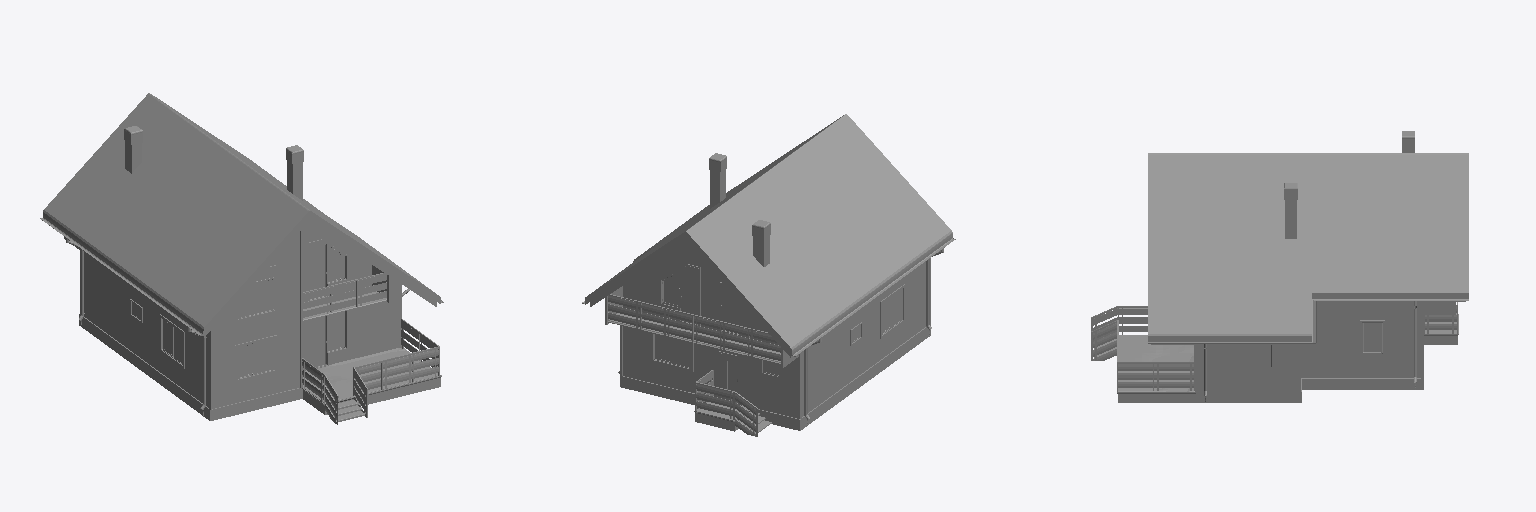
File: Body.obj
3 views of the same model, side by side, from view 1: azimuth 30°, elevation 25°; view 2: azimuth 150°, elevation 25°; view 3: azimuth 270°, elevation 25° (orthographic).
Visible parts, largest first — view 1: Body.002_Plane.004, Plane, Plane.001, Plane.002, Plane.003_Plane.005, Body.001_Plane.003, Door1_Mesh, Door2_Mesh.001; view 2: Body.002_Plane.004, Plane, Plane.001, Plane.002, Door4_Mesh.004, Door3_Mesh.002, Plane.003_Plane.005, Door5_Mesh.003; view 3: Body.002_Plane.004, Plane, Plane.001, Plane.002, Body.001_Plane.003.
Part boxes in pixels (x1,y1,x2,y2): Body.002_Plane.004: (43, 93, 440, 420); Plane: (40, 214, 443, 409); Plane.001: (80, 229, 441, 424); Plane.002: (79, 130, 440, 420); Plane.003_Plane.005: (132, 241, 345, 378); Body.001_Plane.003: (81, 320, 364, 420); Door1_Mesh: (309, 316, 326, 366); Door2_Mesh.001: (309, 241, 326, 299); Body.002_Plane.004: (585, 114, 952, 352); Plane: (582, 235, 955, 419); Plane.001: (608, 258, 930, 436); Plane.002: (609, 158, 930, 431); Door4_Mesh.004: (681, 266, 698, 323); Door3_Mesh.002: (721, 353, 738, 402); Plane.003_Plane.005: (654, 265, 902, 403); Door5_Mesh.003: (721, 284, 738, 324); Body.002_Plane.004: (1091, 131, 1468, 391); Plane: (1148, 297, 1468, 395); Plane.001: (1091, 302, 1458, 393); Plane.002: (1118, 139, 1457, 402); Body.001_Plane.003: (1097, 339, 1415, 401).
Bounding box in the file's own units: 7.02 × 5.32 × 9.42.